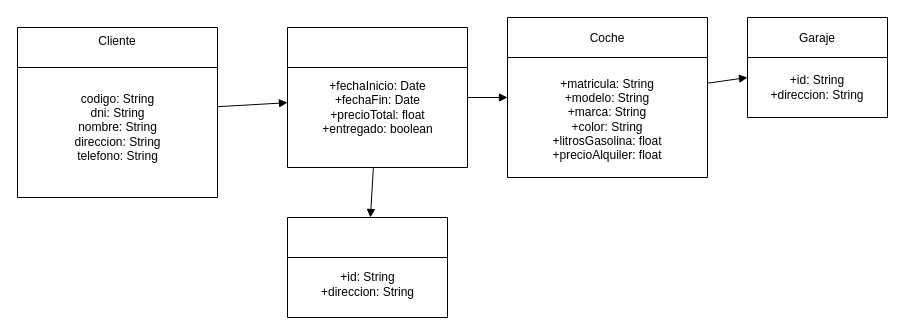
Some shapes in this 905 by 335 pixel diagram are drawn without their labels. Each missing label, with the box of its shape:
Agencia: (286, 216, 448, 318)
Reserva: (286, 26, 468, 168)
